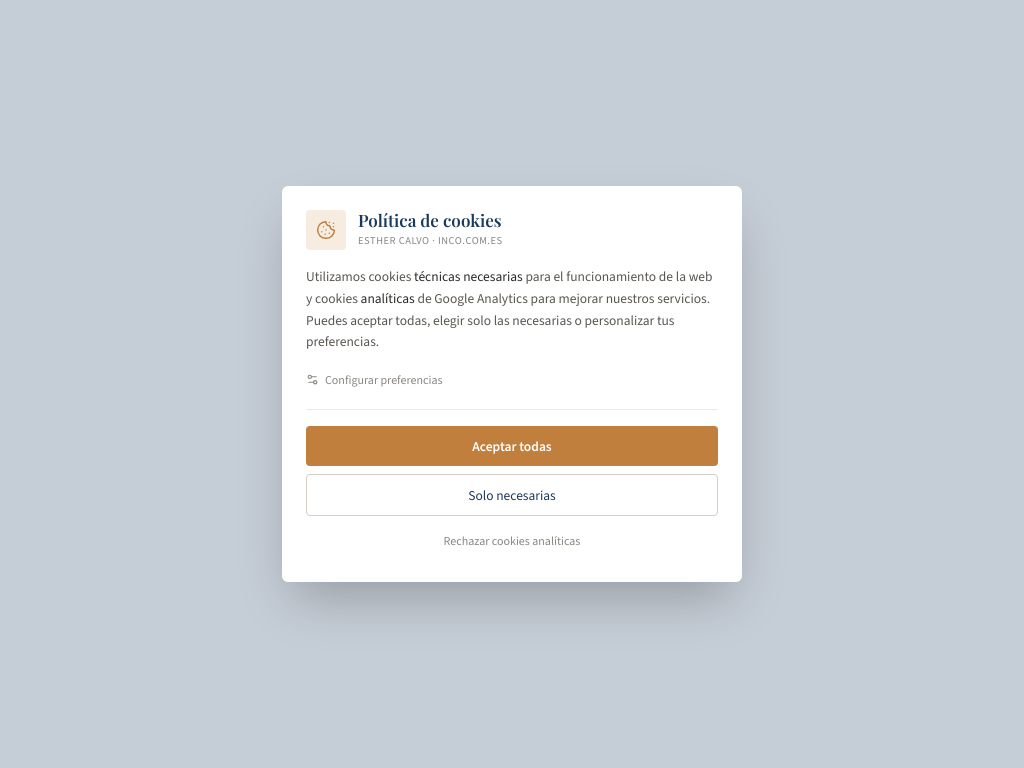
Test: CookieConsent › "Configurar preferencias" opens config view
What coordinates should you click on to do the following:
click the button "Configurar preferencias"
I would click on:
 (374, 380)
Its box is left=306, top=371, right=442, bottom=389.
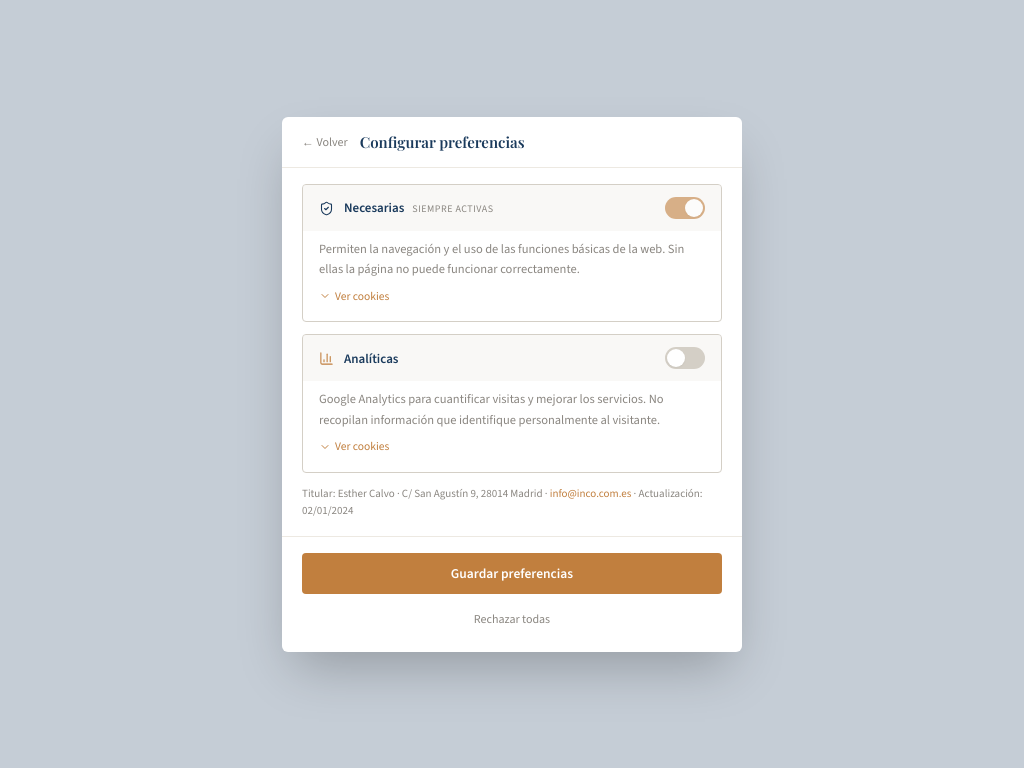
Check: the text "Necesarias" is shown, box left=344, top=198, right=404, bottom=218
Check: the heading "Configurar preferencias" is shown, box left=360, top=130, right=524, bottom=153
